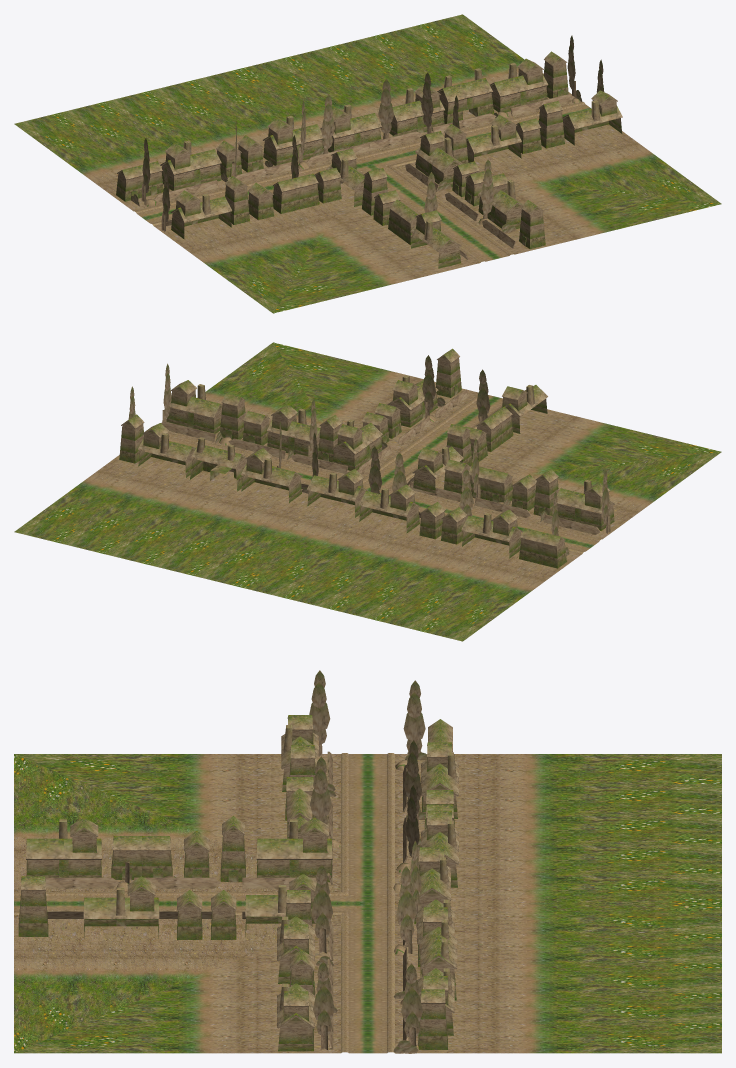
The model's file is VillageRoad02_Both.FBX.
3 views of the same model, one above another, from view 1: azimuth 30°, elevation 25°; view 2: azimuth 150°, elevation 25°; view 3: azimuth 270°, elevation 25° (orthographic). The views are drawn at different scales.
Parts seen in each view (by area): view 1: Road, House (×30), Tree (×4), Fence (×2); view 2: Road, House (×28), Tree (×2); view 3: Road, House (×24), Tree (×9), Fence (×2).
Boxes of the visible parts, x1,y1,x2,y2 form: Road: (14, 14, 721, 313); House (×30): (116, 51, 622, 268); Tree (×4): (321, 72, 494, 218); Fence (×2): (235, 94, 574, 181); Road: (14, 342, 721, 641); House (×28): (119, 348, 614, 568); Tree (×2): (422, 355, 490, 422); Road: (14, 753, 721, 1053); House (×24): (18, 715, 458, 1051); Tree (×9): (309, 670, 425, 1049); Fence (×2): (45, 877, 220, 888).
Bounding box in the file's own units: 10000 × 1400 × 10000.
